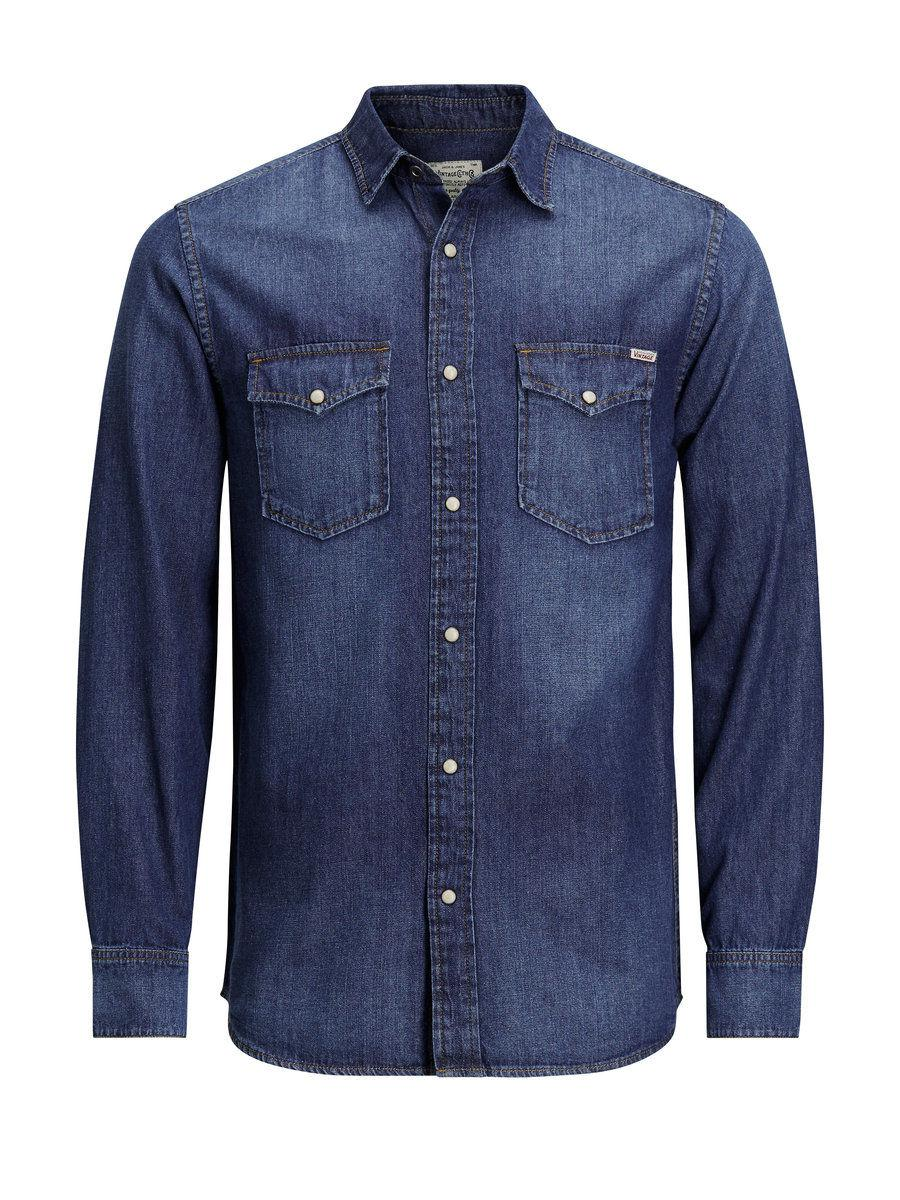teeshirt: (71, 83, 822, 1078)
